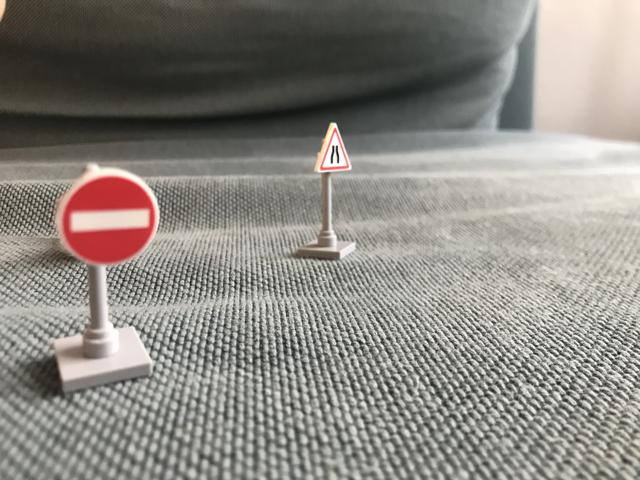verbot der einfahrt: (54, 172, 164, 268)
verengte fahrbahn: (310, 123, 354, 177)
